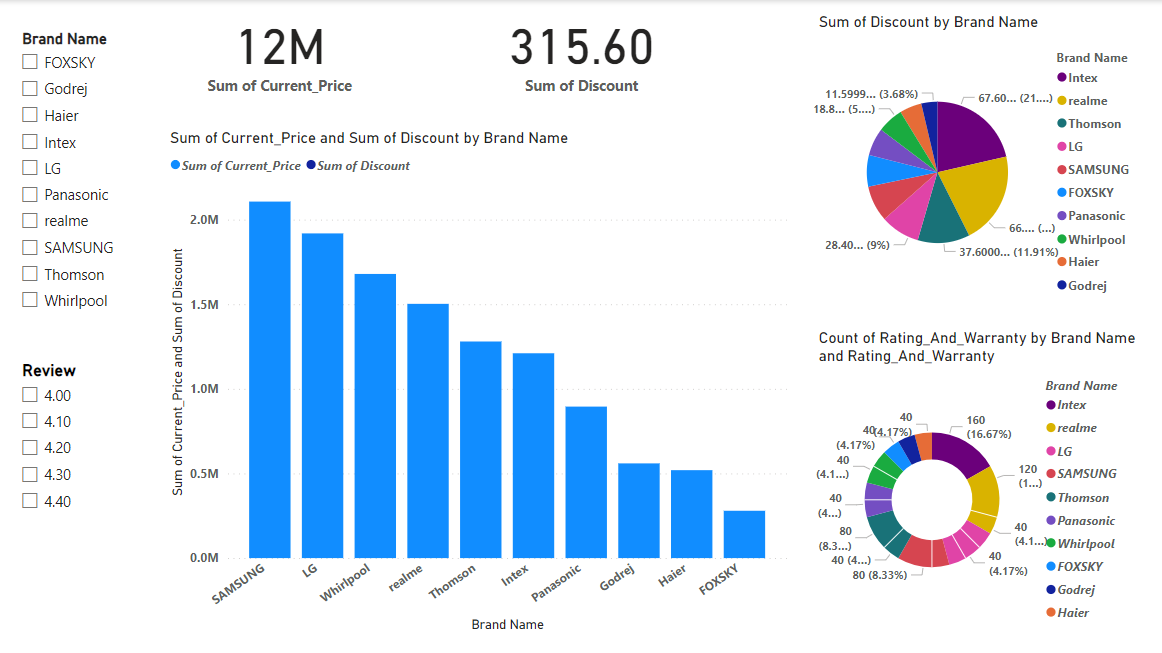

The dashboard page shown, as its layout file describes it:
{"tool":"powerbi","page":{"name":"Page 1","canvas":[1280,720],"ordinal":0},"visuals":[{"type":"slicer","fields":{"Values":["sql washing_machine data.Brand Name"]},"box":[13.7,27.4,170,333.2],"z":0},{"type":"slicer","fields":{"Values":["sql washing_machine data.Review"]},"box":[13.7,390.7,138.5,211.1],"z":1000},{"type":"pieChart","fields":{"Category":["sql washing_machine data.Brand Name"],"Y":["Sum(sql washing_machine data.Discount)"]},"box":[895.3,13.7,371.6,331.8],"z":2000},{"type":"donutChart","fields":{"Category":["sql washing_machine data.Brand Name"],"Series":["sql washing_machine data.Rating_And_Warranty"],"Y":["CountNonNull(sql washing_machine data.Rating_And_Warranty)"]},"box":[895.3,360.6,360.6,337.3],"z":3000},{"type":"columnChart","fields":{"Category":["sql washing_machine data.Brand Name"],"Y":["Sum(sql washing_machine data.Current_Price)","Sum(sql washing_machine data.Discount)"]},"box":[183.7,141.2,686.9,556.6],"z":4000},{"type":"card","fields":{"Values":["Sum(sql washing_machine data.Current_Price)"]},"box":[204.3,1.4,209.8,108.3],"z":5000},{"type":"card","fields":{"Values":["Sum(sql washing_machine data.Discount)"]},"box":[534.7,1.4,211.1,108.3],"z":6000}]}

Visuals, with their boxes in screenshot pixels (x1, y1, x2, y2), scaled from the page's 1280x720 canvas onto the 1162x653 screenshot:
slicer - sql washing_machine data.Brand Name: <region>12, 25, 167, 327</region>
slicer - sql washing_machine data.Review: <region>12, 354, 138, 546</region>
pieChart - sql washing_machine data.Brand Name x Sum(sql washing_machine data.Discount): <region>813, 12, 1150, 313</region>
donutChart - sql washing_machine data.Brand Name x sql washing_machine data.Rating_And_Warranty: <region>813, 327, 1140, 633</region>
columnChart - sql washing_machine data.Brand Name x Sum(sql washing_machine data.Current_Price): <region>167, 128, 790, 633</region>
card - Sum(sql washing_machine data.Current_Price): <region>185, 1, 376, 99</region>
card - Sum(sql washing_machine data.Discount): <region>485, 1, 677, 99</region>
